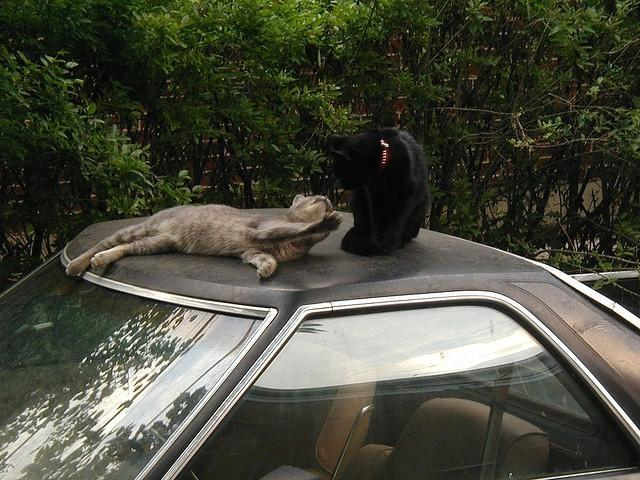car: (0, 215, 640, 473)
